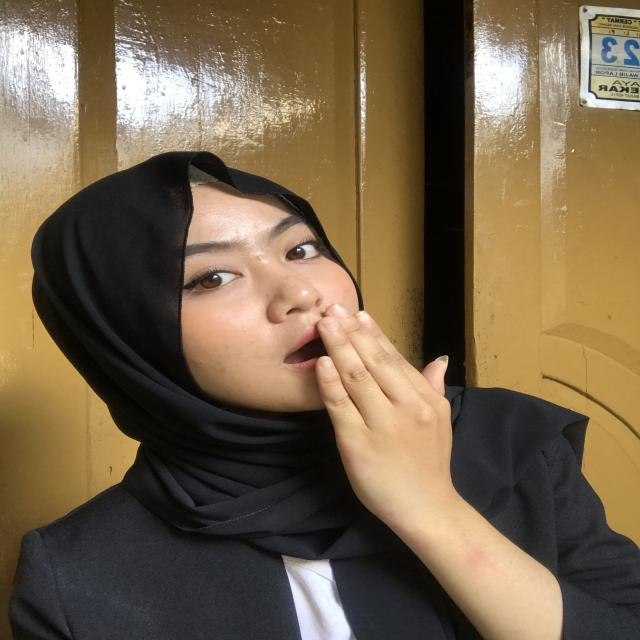ngantuk: (262, 290, 494, 510)
